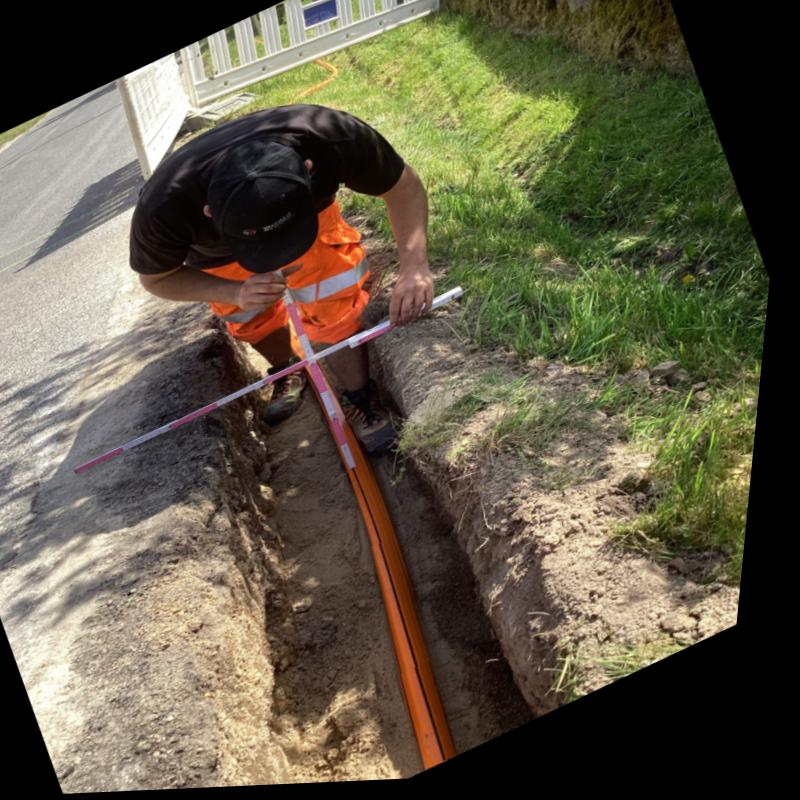Orang-Speednetrohrchen: (325, 364, 472, 773)
